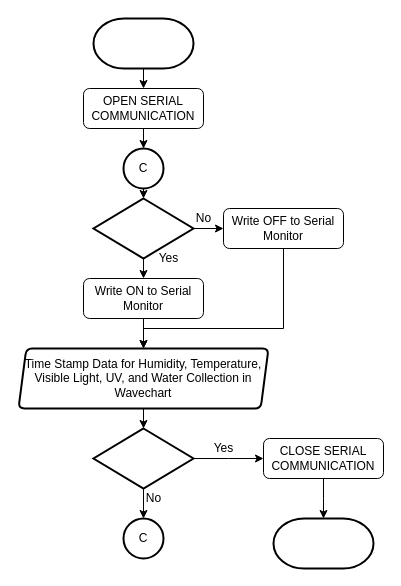
The diagram is 401 pixels wide and 586 high, and some of its shapes have lost their labels. Here are the shapes that lost their labels. From the top down, the box of each, then its label:
(92, 17, 194, 69): LABVIEW
(92, 197, 194, 259): POWER ON?
(92, 427, 194, 489): STOP pressed?
(272, 517, 374, 569): END
